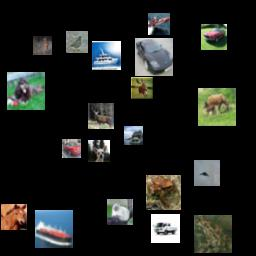airplane: (194, 160, 220, 186)
automobile: (135, 38, 173, 76), (201, 24, 227, 50), (62, 139, 81, 158)
bird: (66, 31, 88, 53)
cat: (107, 199, 133, 225)
deer: (88, 103, 114, 129), (131, 77, 153, 99), (33, 36, 52, 55)
dog: (7, 72, 45, 110), (88, 140, 110, 162)
frog: (194, 215, 232, 253), (146, 175, 181, 210)
ship: (35, 210, 73, 248), (92, 41, 121, 70), (148, 13, 170, 35), (124, 126, 143, 145)
truck: (151, 214, 180, 243)
